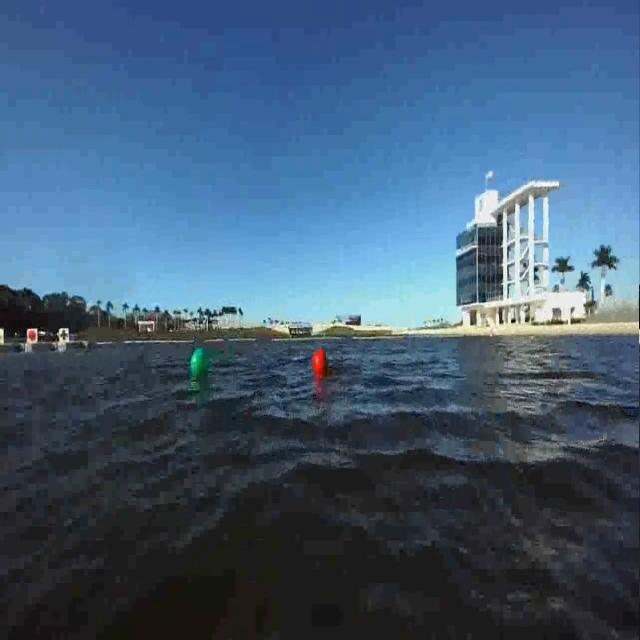green-buoy: (190, 346, 212, 381)
red-buoy: (314, 348, 327, 374)
